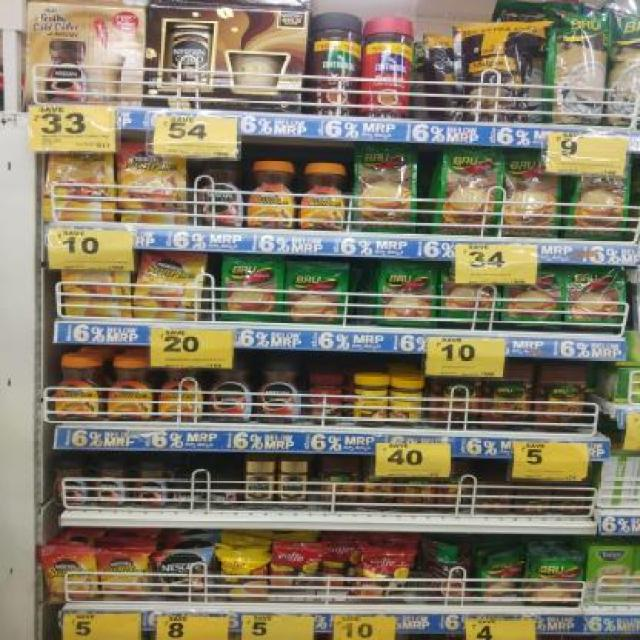Coffee: (44, 137, 116, 221), (119, 142, 189, 224), (61, 249, 130, 317), (134, 250, 201, 320), (196, 157, 244, 228), (247, 159, 295, 230), (300, 162, 348, 230), (52, 356, 100, 420), (208, 358, 254, 424), (106, 359, 154, 421), (258, 358, 302, 425), (160, 353, 202, 422), (156, 548, 207, 604), (43, 548, 95, 598), (100, 548, 149, 597), (53, 459, 90, 506), (132, 460, 166, 508), (93, 459, 125, 506), (280, 460, 308, 511), (245, 460, 273, 509), (207, 484, 241, 508), (170, 484, 202, 508)
